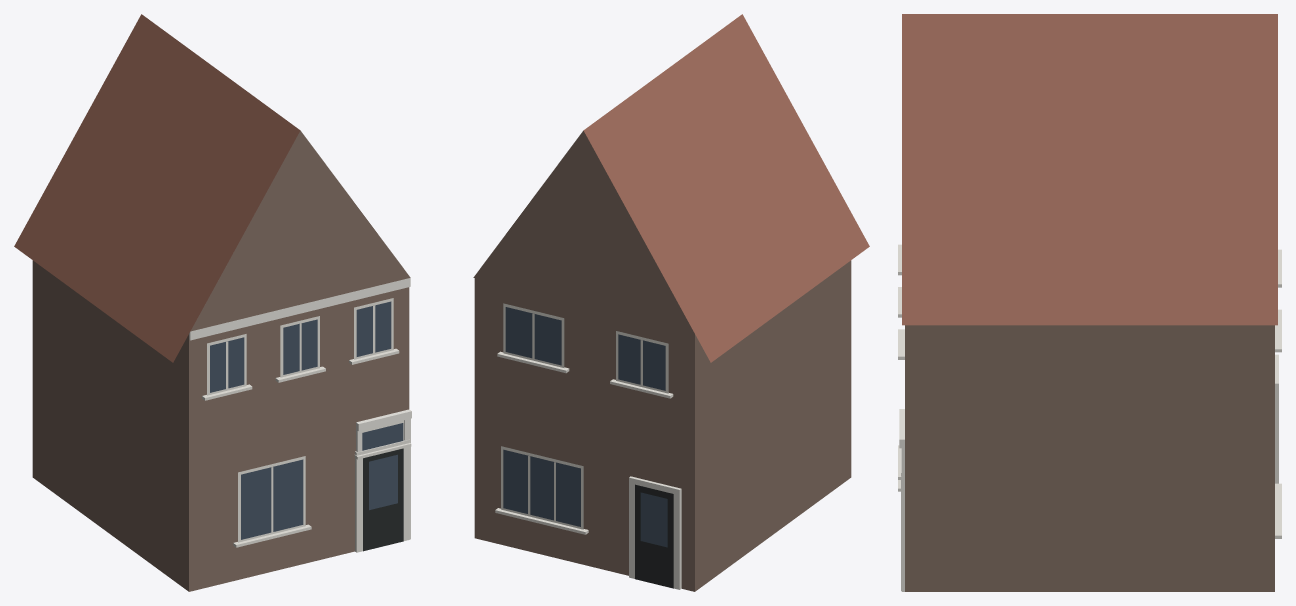
The model's file is nn-row-small__small-grey__2__gable__short__solid__mirror.glb.
The picture shows the model from 3 angles, left to right: view 1: azimuth 30°, elevation 25°; view 2: azimuth 150°, elevation 25°; view 3: azimuth 270°, elevation 25°; orthographic projection. The views are drawn at different scales.
Parts seen in each view (by area): view 1: nn-row-small__small-grey__2__gable__short__solid__mirror; view 2: nn-row-small__small-grey__2__gable__short__solid__mirror; view 3: nn-row-small__small-grey__2__gable__short__solid__mirror.
Part boxes in pixels (bbox=[...]): nn-row-small__small-grey__2__gable__short__solid__mirror: bbox=[14, 14, 411, 591]; nn-row-small__small-grey__2__gable__short__solid__mirror: bbox=[473, 14, 869, 591]; nn-row-small__small-grey__2__gable__short__solid__mirror: bbox=[898, 14, 1281, 591].
Bounding box in the file's own units: 5.92 × 9.67 × 6.54.
